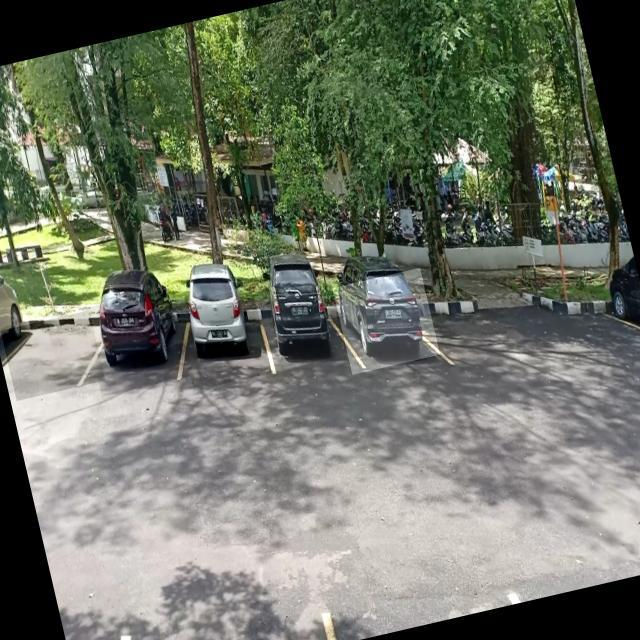empty: (0, 310, 105, 400)
occupied: (81, 287, 192, 396), (332, 267, 440, 374), (174, 286, 275, 391), (254, 278, 346, 372)
